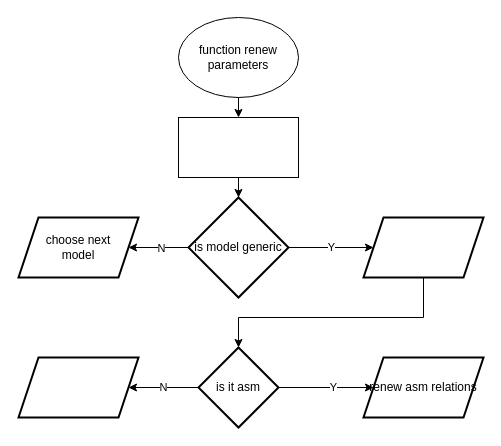
Some shapes in this 501 by 446 pixel diagram are drawn without their labels. Each missing label, with the centre of its shape:
"change parameters" goes at (x=423, y=247).
"get all models list" goes at (x=238, y=147).
"renew prt relation" goes at (x=78, y=387).
